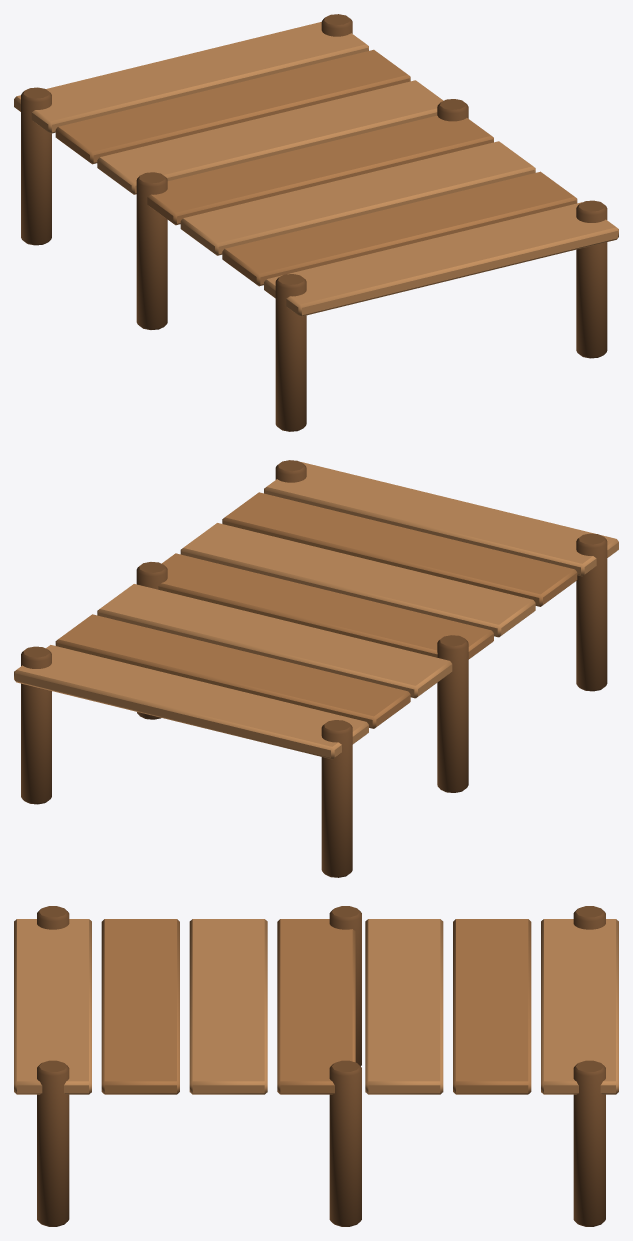
File: dock.glb
The picture shows the model from 3 angles, top to bottom: view 1: azimuth 30°, elevation 25°; view 2: azimuth 150°, elevation 25°; view 3: azimuth 270°, elevation 25°; orthographic projection. The views are drawn at different scales.
Parts seen in each view (by area): view 1: DockMesh; view 2: DockMesh; view 3: DockMesh.
Boxes of the visible parts, x1,y1,x2,y2 form: DockMesh: (14,14,618,431); DockMesh: (14,460,618,877); DockMesh: (14,906,618,1226).
Bounding box in the file's own units: 1.63 × 0.7 × 2.48.
